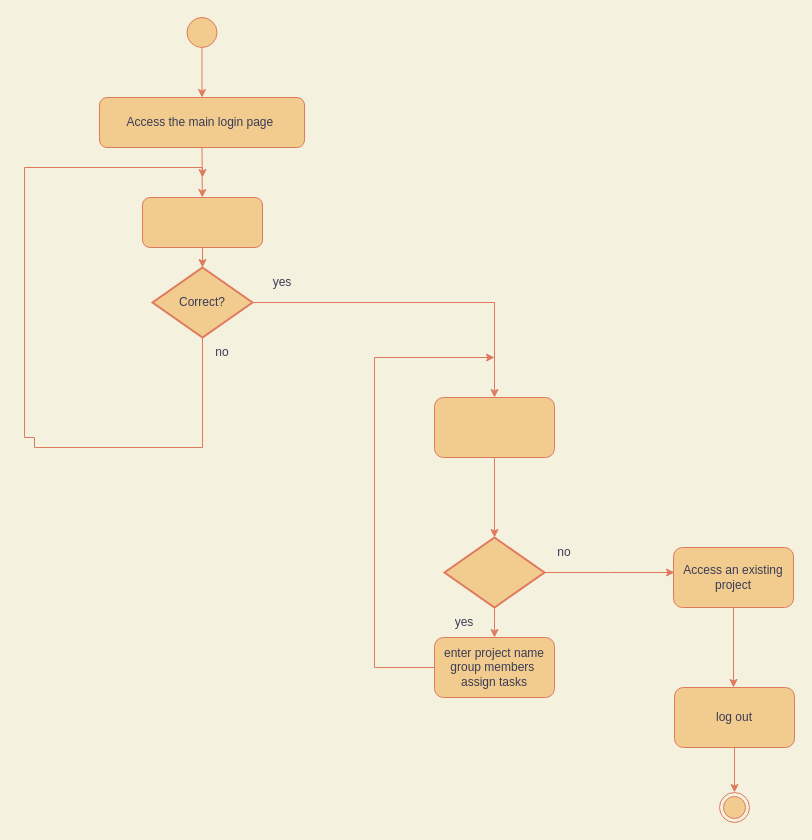
Image size: 812x840. Some labels were removed from this diagram. Each missing label, with the centre of its shape:
"create project" belongs at (494,572).
"Enter credentials" belongs at (202,222).
"Main page" belongs at (494,427).
